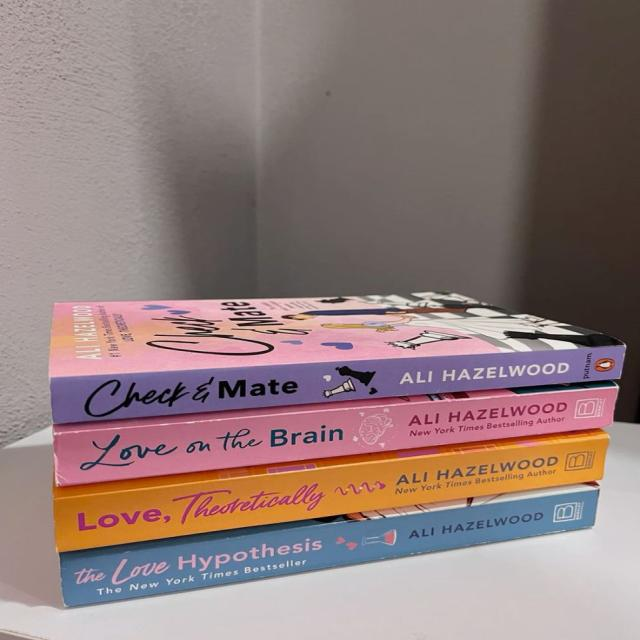book: (50, 294, 624, 423), (53, 430, 609, 551), (60, 485, 599, 607), (54, 382, 617, 486)
